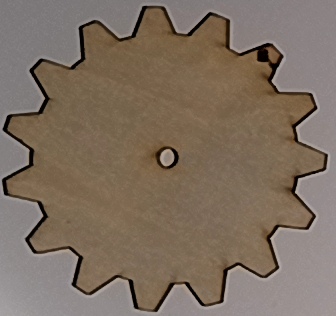Points: (254, 45, 279, 71)
